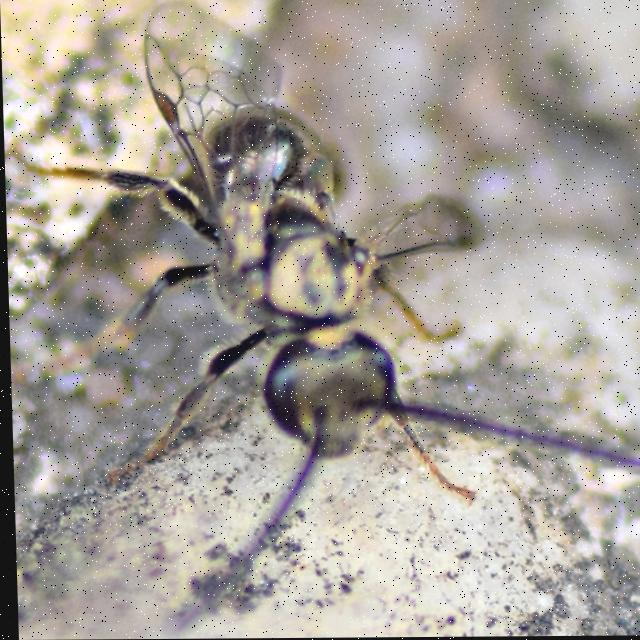Lasioglossum: (44, 0, 640, 610)
